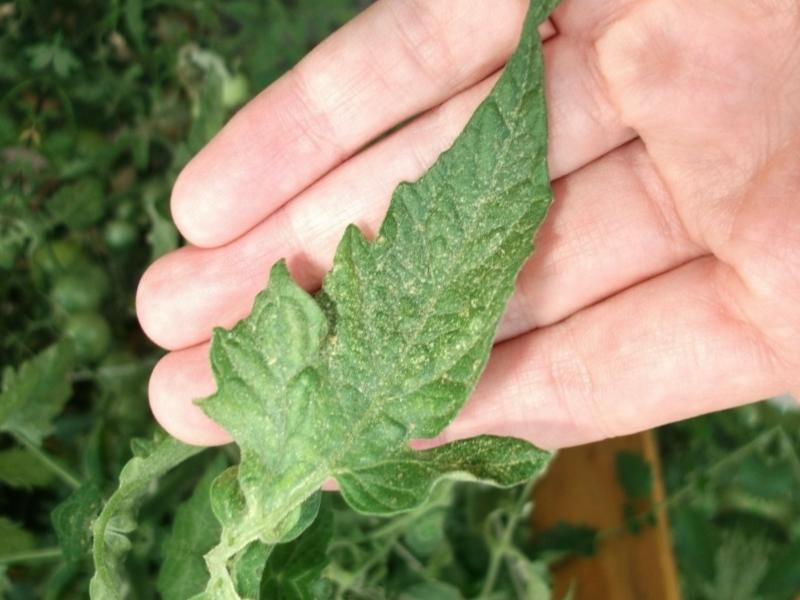Tomato mold leaf: (197, 0, 667, 588)
